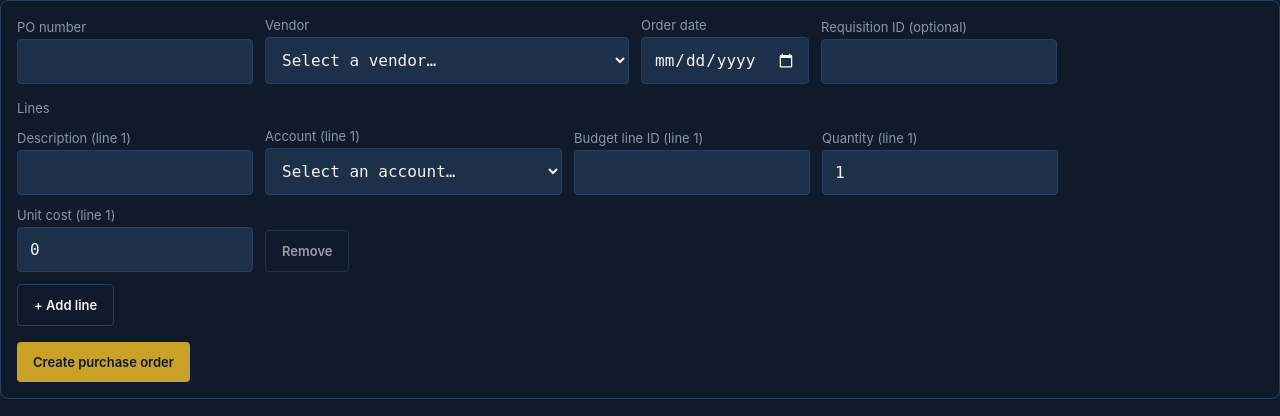
CreatePurchaseOrderForm › shows an error message when the action fails
The image size is (1280, 416).
Type "PO-001" into the field labelled "PO number" at (135, 62), box [17,39,253,84]
Select "VEND-001 — Acme Building Supplies" in the dropdown labelled "Vendor" at (447, 60), box [265,37,629,84]
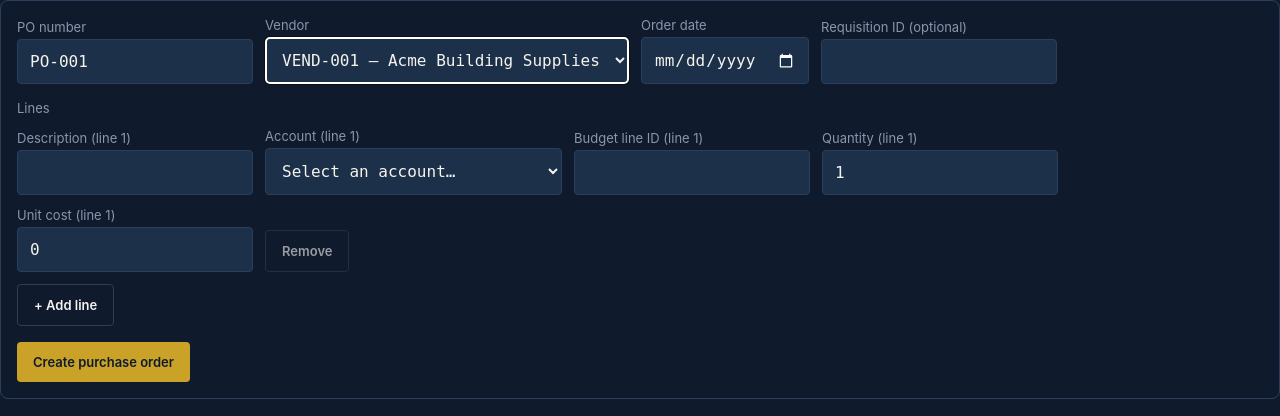
Type "2026-08-01" into the date field labelled "Order date" at (725, 60), box [641,37,809,84]
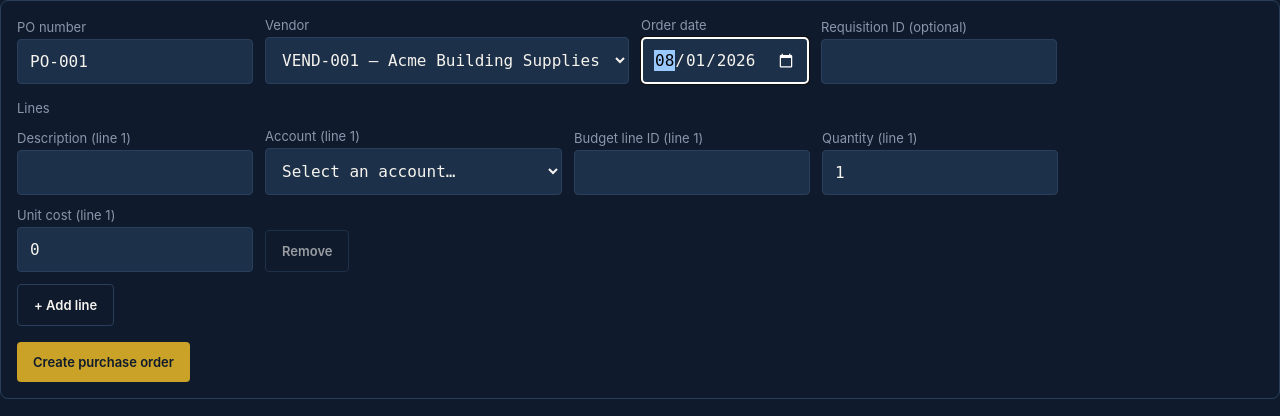
Type "Printer paper" into the field labelled "Description (line 1)" at (135, 172), box [17,150,253,195]
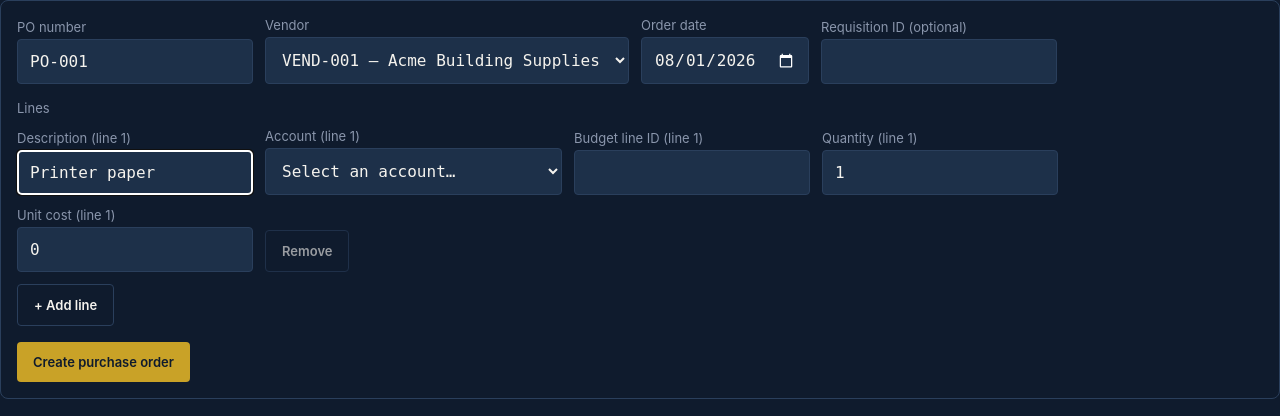
Select "5000-100 — Office supplies" in the dropdown labelled "Account (line 1)" at (414, 172), box [265,148,562,195]
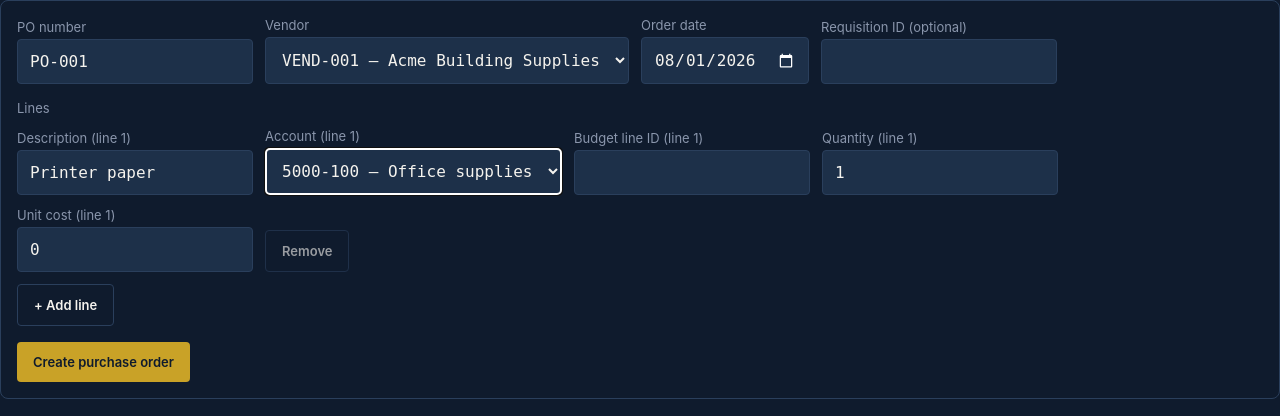
Type "bl-1" into the field labelled "Budget line ID (line 1)" at (692, 172), box [574,150,810,195]
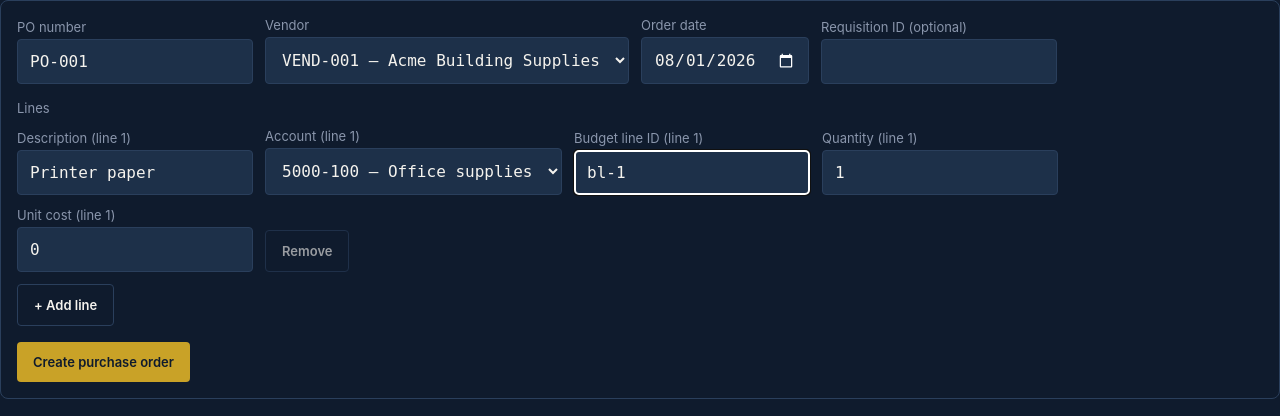
Click the button "Create purchase order" at (104, 362), box [17,342,190,382]
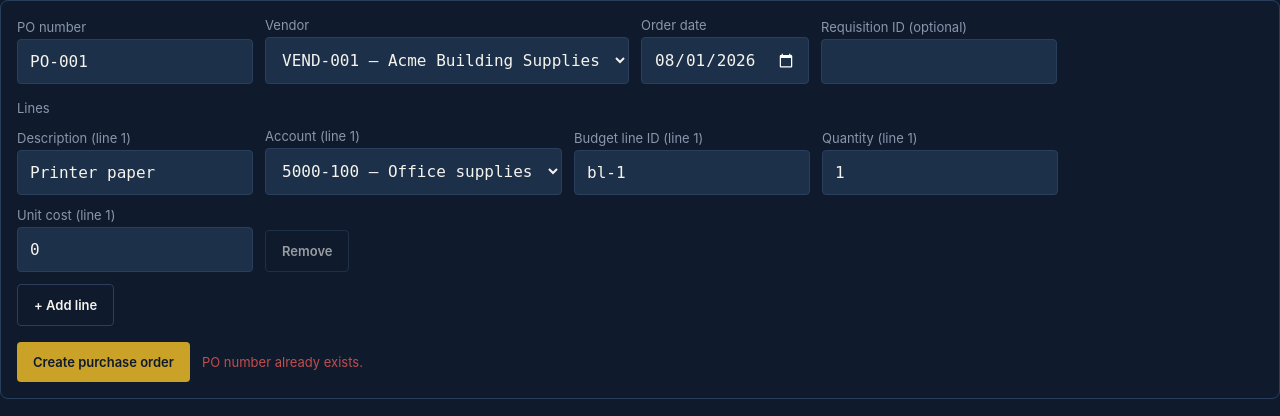
Now the text "PO number already exists." is shown, box [202,354,363,370]
